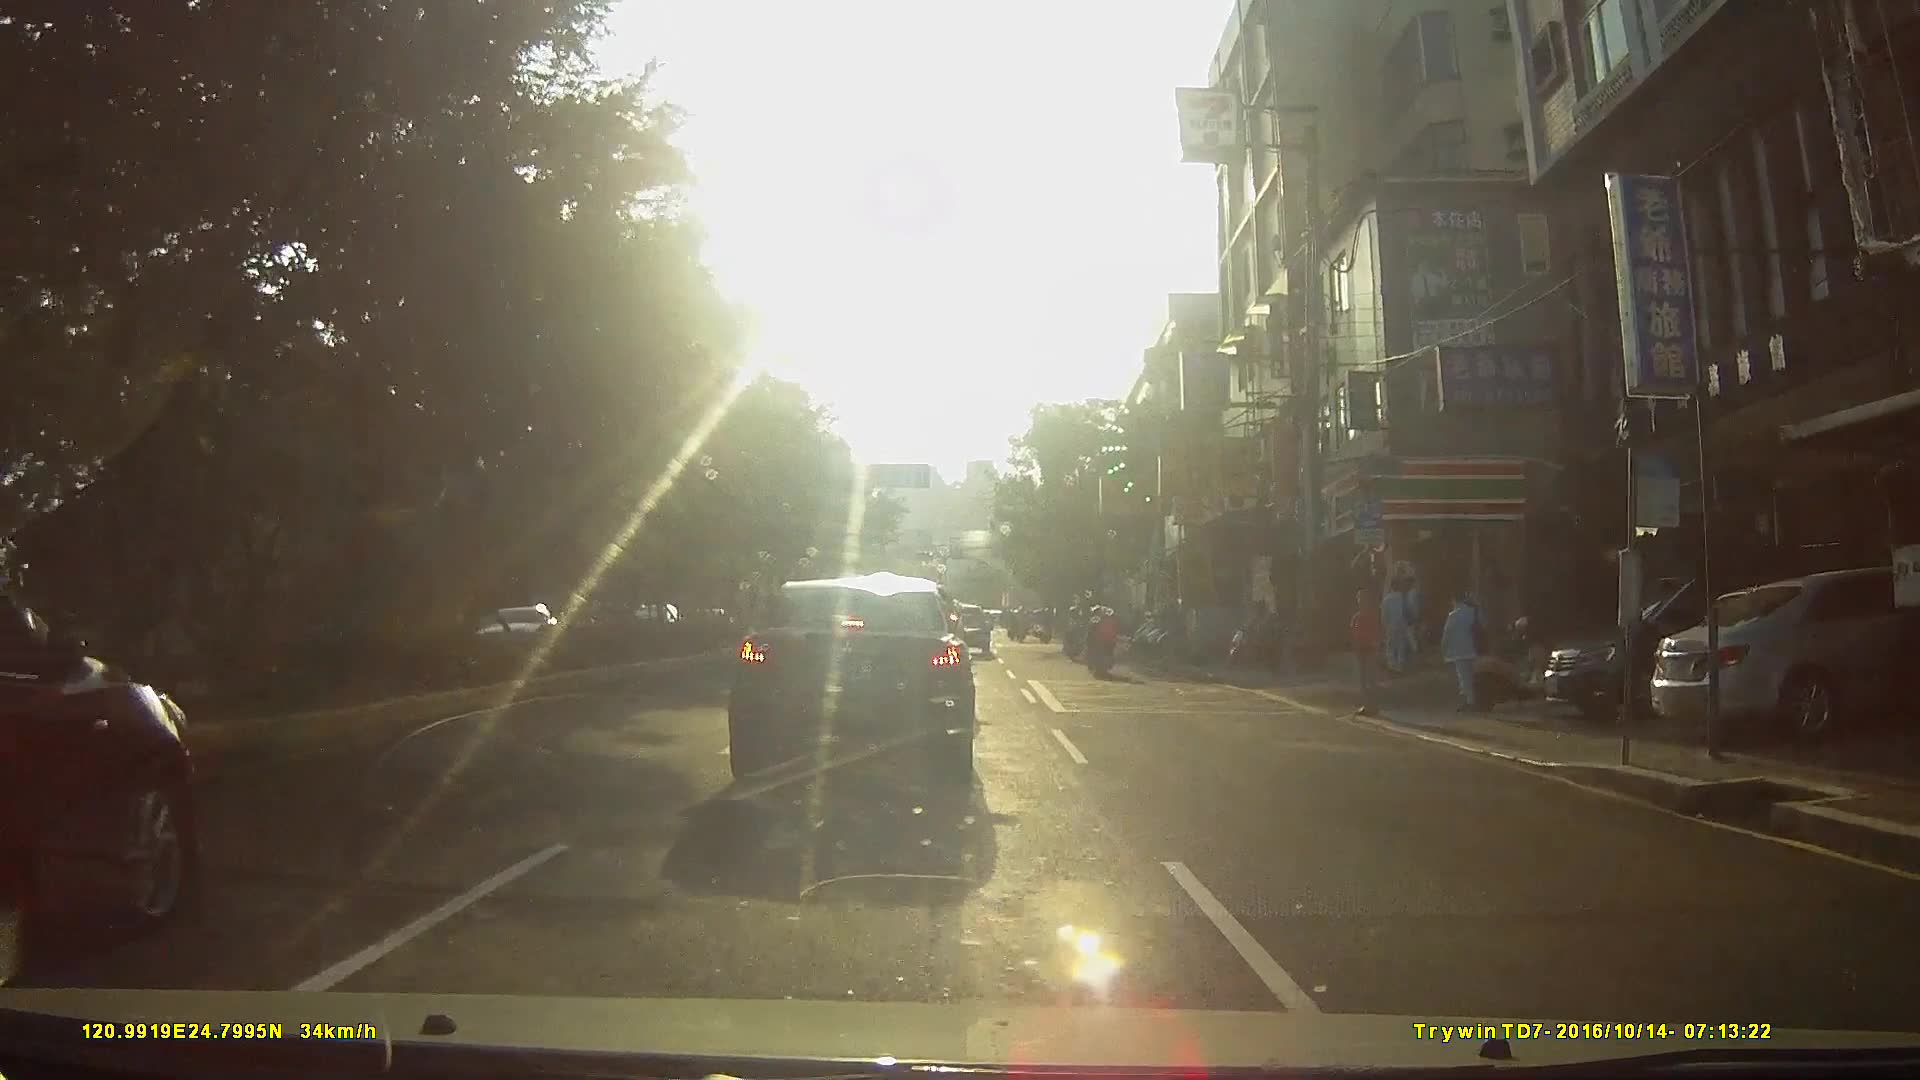pedestrian: (1435, 584, 1494, 715), (1353, 591, 1388, 725)
rider: (1082, 605, 1120, 682), (1062, 604, 1086, 659)
vehicle: (1, 571, 207, 976), (1535, 552, 1910, 726), (719, 574, 989, 758), (1641, 569, 1919, 746)
